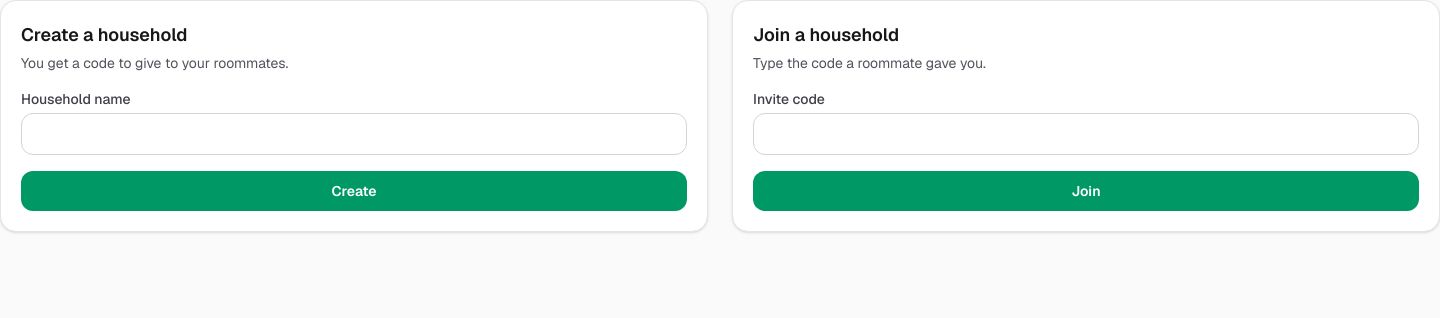
Test case: a wrong invite code shows the backend's message
Type "WRONG" into the field labelled "Invite code".
click(1086, 134); type("WRONG")  # box [753,113,1419,155]
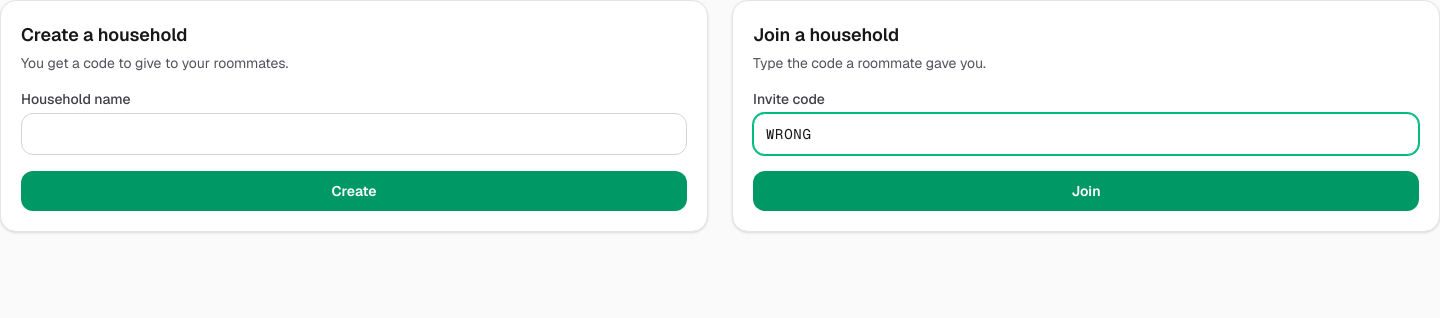
Click the button "Join".
click(1086, 191)  # box [753,171,1419,211]
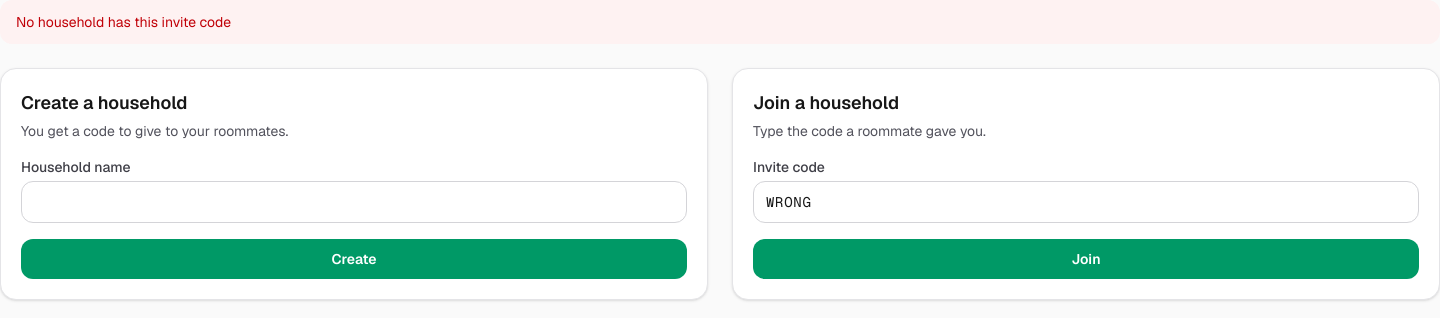
Result: the message reads "No household has this invite code" at [16,13,231,31]
